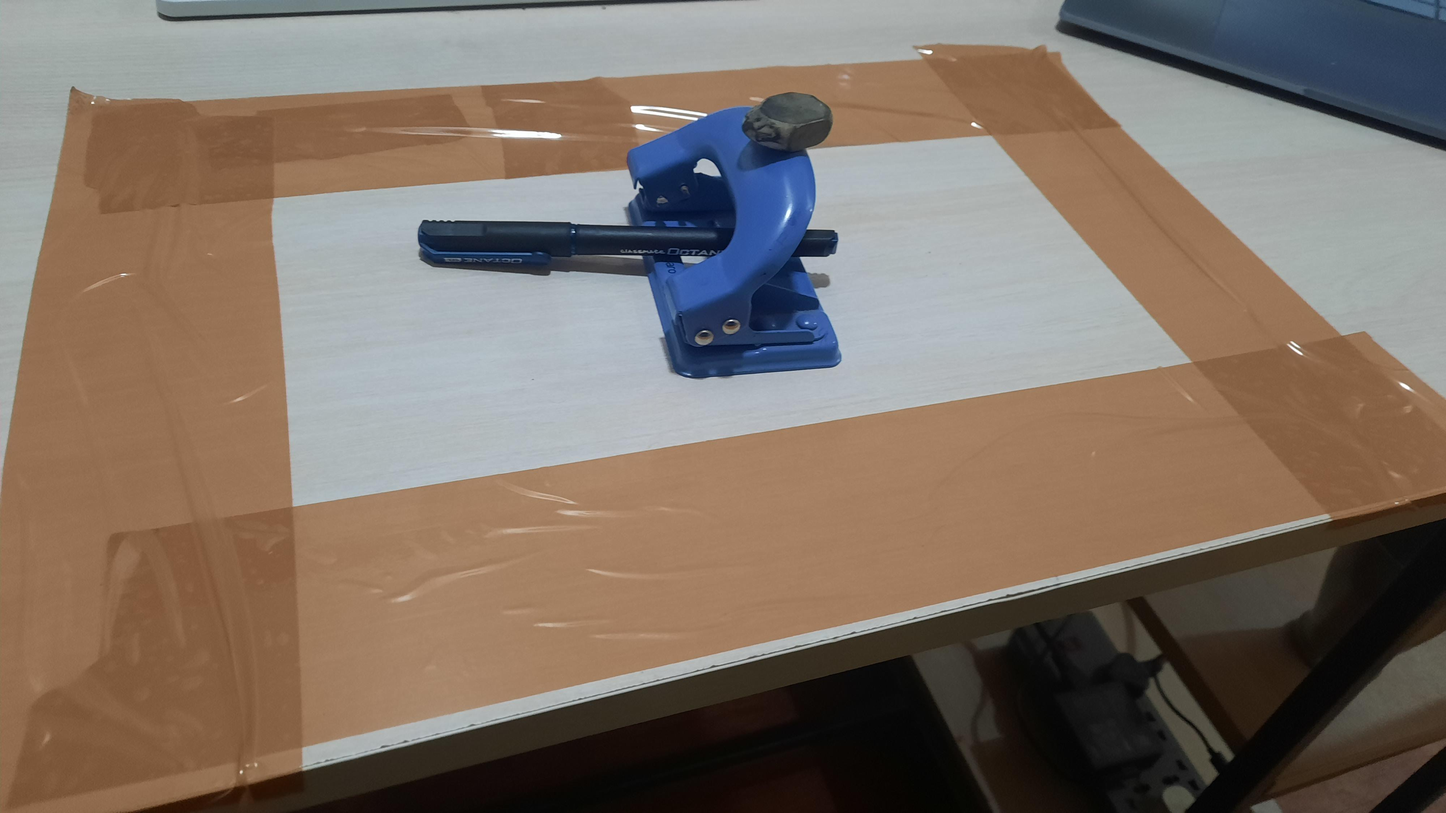Eraser: (742, 92, 833, 152)
Pen: (417, 219, 838, 269)
Punch: (625, 106, 843, 380)
